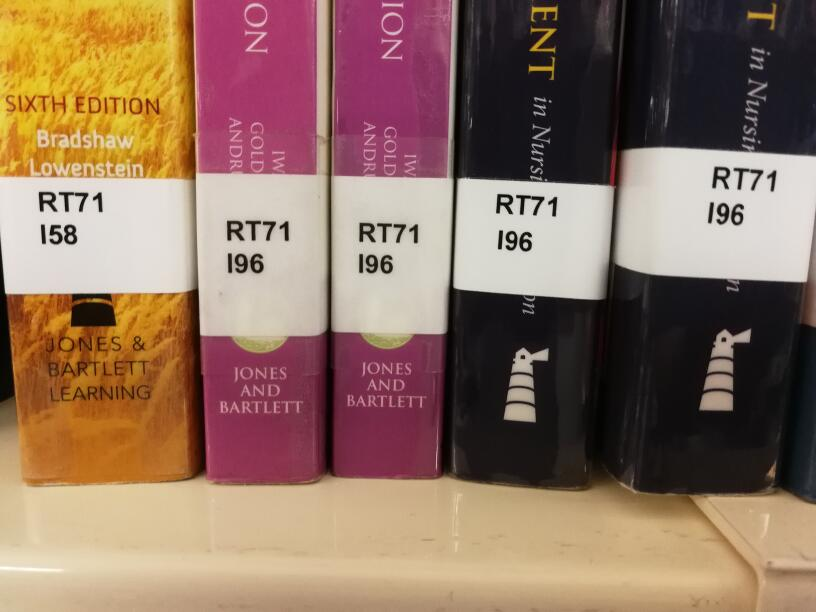booklabel: (705, 162, 779, 228), (33, 186, 106, 248), (493, 191, 559, 255), (222, 216, 291, 276), (356, 220, 420, 275)
